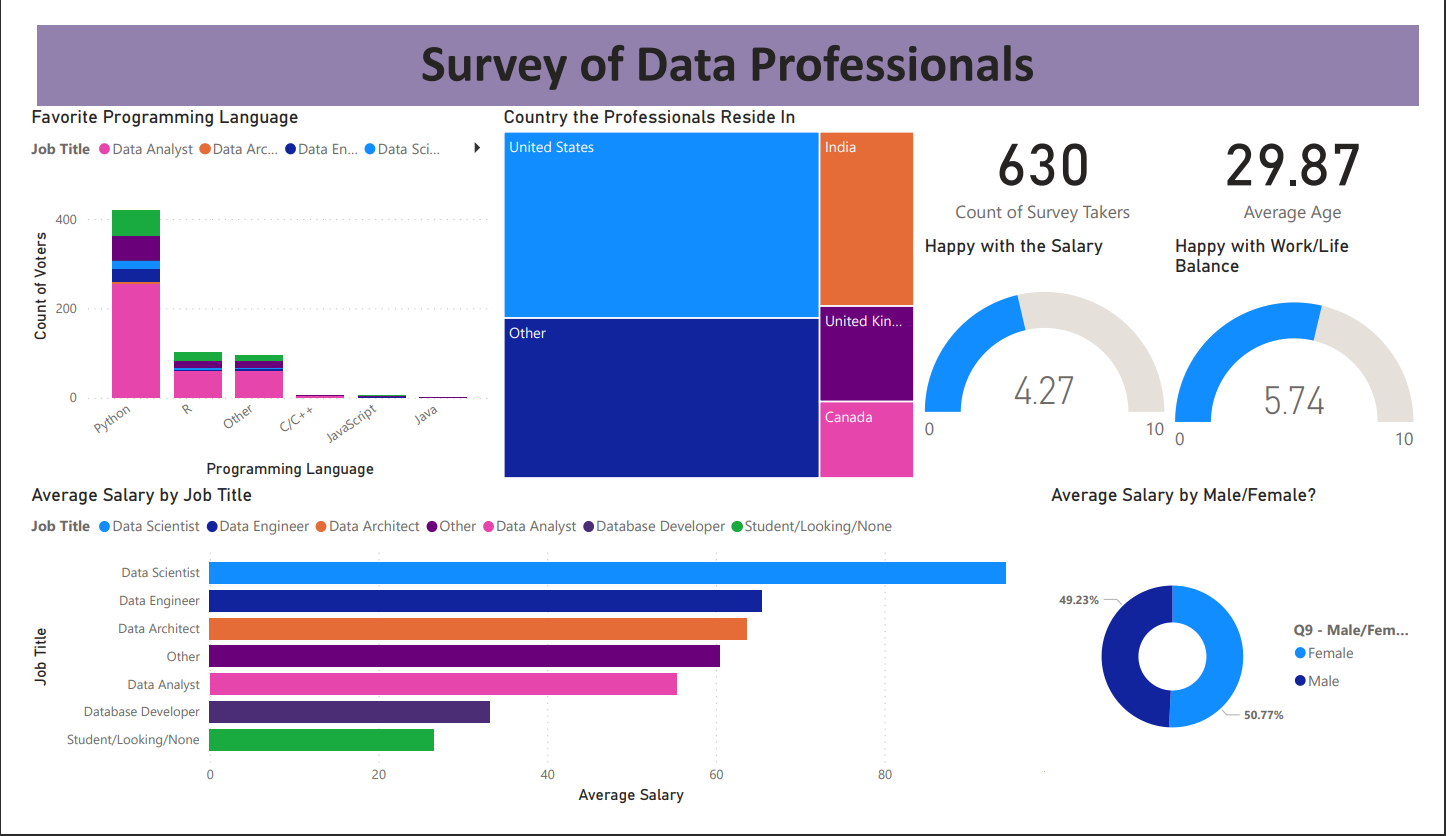

The page's visual inventory and layout, read from the dashboard file:
{"tool":"powerbi","page":{"name":"Page 1","canvas":[1280,720],"ordinal":0},"visuals":[{"type":"textbox","box":[9.6,0,1269.9,74.8],"z":0},{"type":"card","fields":{"Values":["Count(Data Professional Survey.Unique ID)"]},"box":[821.3,74.8,226.7,114.6],"z":1},{"type":"card","fields":{"Values":["Avg(Data Professional Survey.Q10 - Current Age)"]},"box":[1048,74.8,231.6,114.6],"z":2},{"type":"barChart","title":"Average Salary by Job Title","fields":{"Category":["Data Professional Survey.Q1 - Which Title Best Fits your Current Role?.1"],"Y":["Avg(Data Professional Survey.Average Salary)"],"Series":["Data Professional Survey.Q1 - Which Title Best Fits your Current Role?.1"]},"box":[0,420.8,959.1,298.9],"z":3},{"type":"columnChart","title":"Favorite Programming Language","fields":{"Category":["Data Professional Survey.Q5 - Favorite Programming Language.1.1"],"Y":["CountNonNull(Data Professional Survey.Unique ID)"],"Series":["Data Professional Survey.Q1 - Which Title Best Fits your Current Role?.1"]},"box":[0,74.3,434.2,346.5],"z":4},{"type":"treemap","title":"Country the Professionals Reside In","fields":{"Group":["Data Professional Survey.Q11 - Which Country do you live in?.1"],"Values":["CountNonNull(Data Professional Survey.Q11 - Which Country do you live in?.1)"]},"box":[434.2,74.3,386.6,346.5],"z":5},{"type":"gauge","title":"Happy with Work/Life Balance","fields":{"Y":["Avg(Data Professional Survey.Q6 - How Happy are you in your Current Position with the following? (Work/Life Balance))"],"MinValue":["Min(Data Professional Survey.Q6 - How Happy are you in your Current Position with the following? (Work/Life Balance))1"],"MaxValue":["Max(Data Professional Survey.Q6 - How Happy are you in your Current Position with the following? (Work/Life Balance))2"]},"box":[1051.3,191.8,229,229],"z":6},{"type":"gauge","title":"Happy with the Salary","fields":{"Y":["Avg(Data Professional Survey.Q6 - How Happy are you in your Current Position with the following? (Salary))"],"MinValue":["Min(Data Professional Survey.Q6 - How Happy are you in your Current Position with the following? (Salary))1"],"MaxValue":["Max(Data Professional Survey.Q6 - How Happy are you in your Current Position with the following? (Salary))2"]},"box":[820.8,191.8,230.5,229],"z":7},{"type":"donutChart","title":"Average Salary by Male/Female?","fields":{"Category":["Data Professional Survey.Q9 - Male/Female?"],"Y":["Avg(Data Professional Survey.Average Salary)"]},"box":[936.8,420.8,343.5,298.9],"z":8}]}

Visuals, with their boxes in screenshot pixels (x1, y1, x2, y2), scaled from the page's 1280x720 canvas onto the 1446x836 screenshot:
textbox: pyautogui.locateOnScreen(11, 0, 1445, 87)
card - Count(Data Professional Survey.Unique ID): pyautogui.locateOnScreen(928, 87, 1184, 220)
card - Avg(Data Professional Survey.Q10 - Current Age): pyautogui.locateOnScreen(1184, 87, 1445, 220)
"Average Salary by Job Title" barChart: pyautogui.locateOnScreen(0, 489, 1083, 835)
"Favorite Programming Language" columnChart: pyautogui.locateOnScreen(0, 86, 491, 489)
"Country the Professionals Reside In" treemap: pyautogui.locateOnScreen(491, 86, 927, 489)
"Happy with Work/Life Balance" gauge: pyautogui.locateOnScreen(1188, 223, 1445, 489)
"Happy with the Salary" gauge: pyautogui.locateOnScreen(927, 223, 1188, 489)
"Average Salary by Male/Female?" donutChart: pyautogui.locateOnScreen(1058, 489, 1445, 835)
